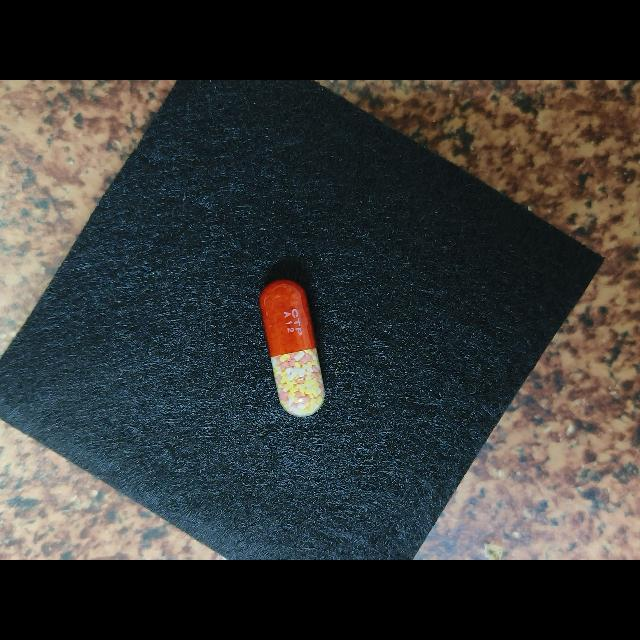Intact Capsule: (259, 280, 325, 416)
